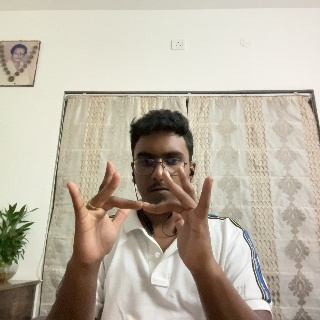Internet: (65, 160, 220, 283)
